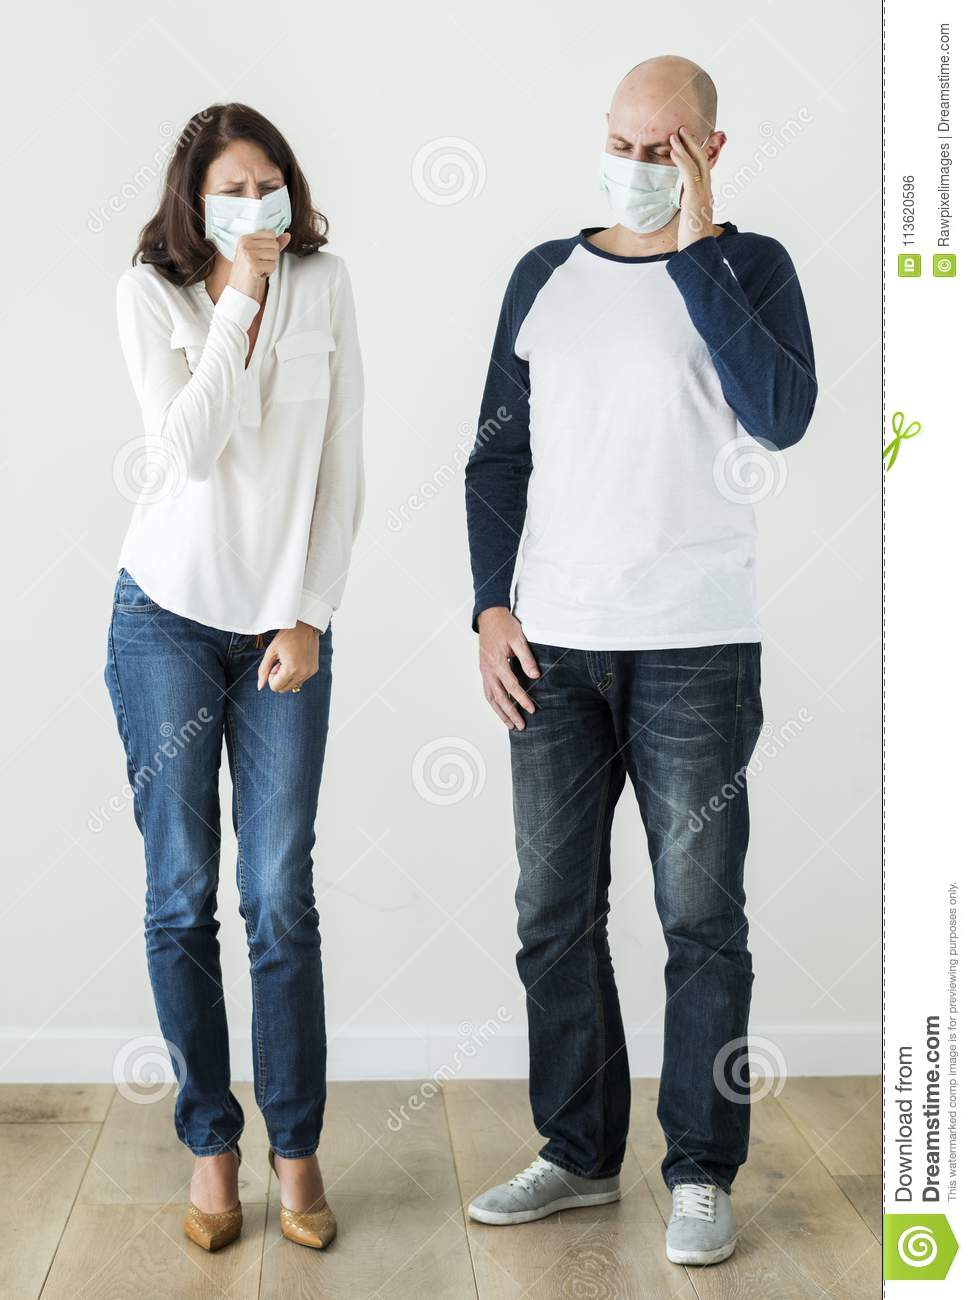mask: (599, 152, 690, 240), (210, 192, 290, 264)
